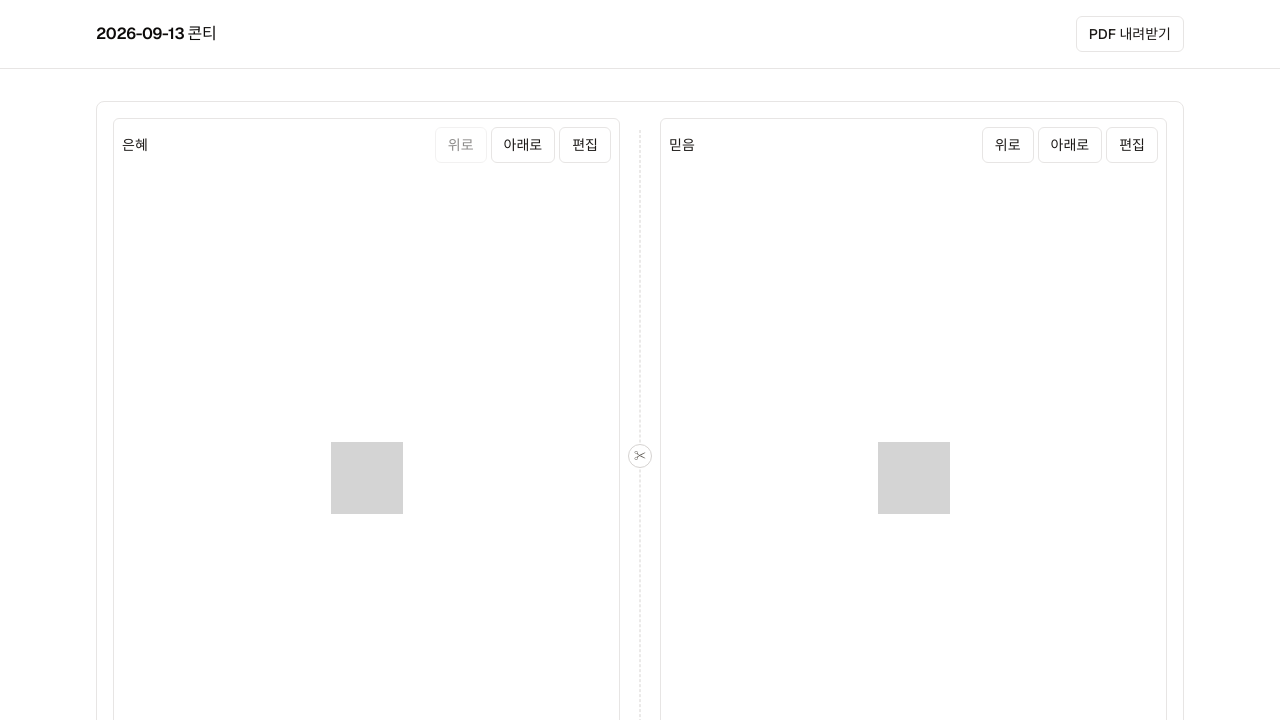
Test: PDF 내려받기 › 만드는 동안 버튼이 잠기고 진행 중임을 알려야 한다
Click the button "PDF 내려받기": (1130, 34) [1076,16,1184,52]
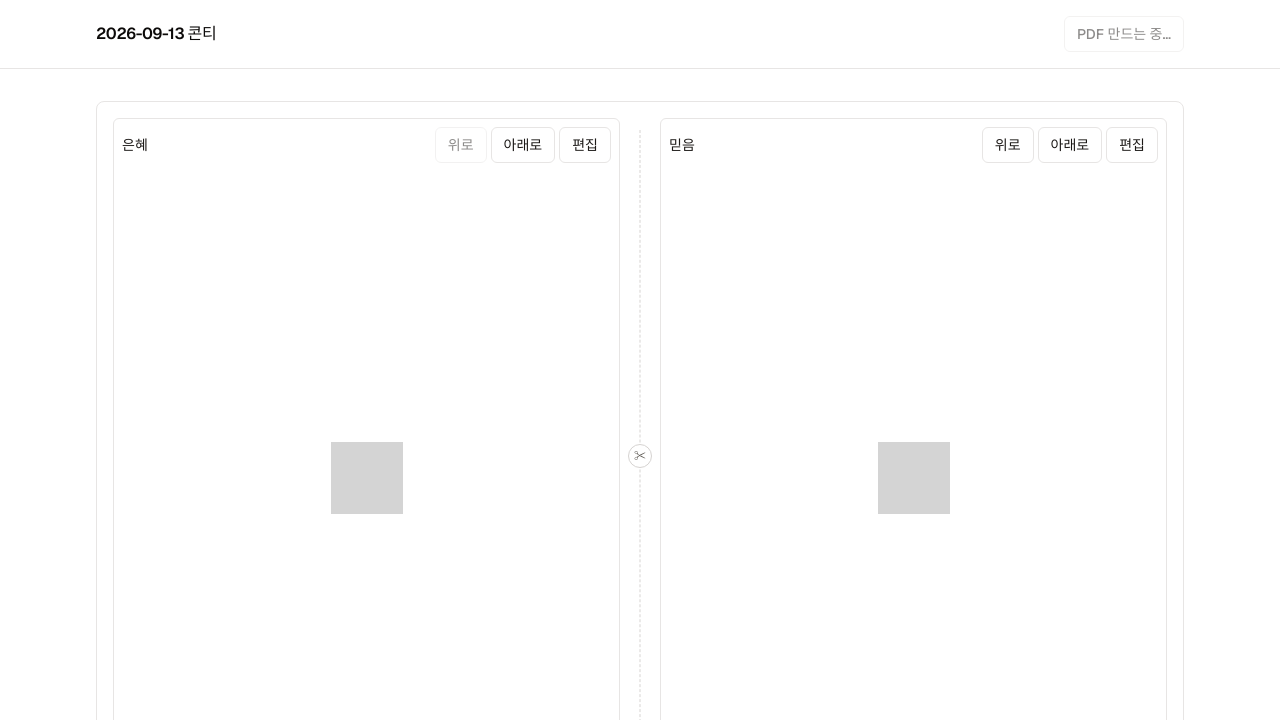
Check: the button "PDF 만드는 중…" is disabled, box [1064,16,1184,52]
Check: the button "PDF 내려받기" is gone
